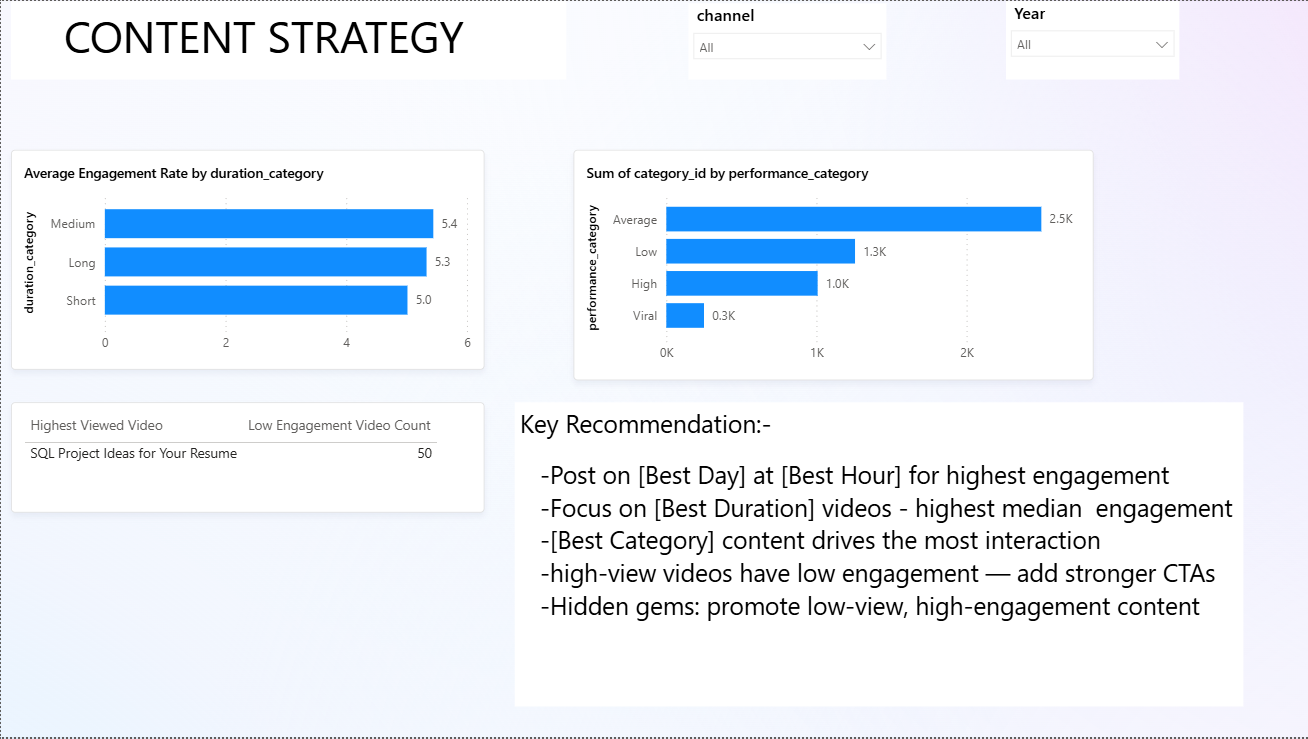

The dashboard page shown, as its layout file describes it:
{"tool":"powerbi","page":{"name":"Content Strategy","canvas":[1280,720],"ordinal":3},"visuals":[{"type":"textbox","box":[10,0,543.1,77],"z":0},{"type":"slicer","fields":{"Values":["youtube_cleaned_data.channel_title"]},"box":[672.8,2.9,193.9,74.1],"z":1},{"type":"slicer","fields":{"Values":["DimDate.Year"]},"box":[983.5,0,169.6,77],"z":2},{"type":"barChart","fields":{"Category":["youtube_cleaned_data.duration_category"],"Y":["DimDate.Average Engagement Rate"]},"box":[10,145.4,463.3,215.2],"z":3},{"type":"tableEx","fields":{"Values":["DimDate.Highest Viewed Video","DimDate.Low Engagement Video Count"]},"box":[10,392,463.3,108.3],"z":4},{"type":"barChart","fields":{"Category":["youtube_cleaned_data.performance_category"],"Y":["Sum(youtube_cleaned_data.category_id)"]},"box":[560.2,145.4,508.9,225.2],"z":5},{"type":"textbox","box":[503.2,392,712.7,297.9],"z":6}]}

Visuals, with their boxes in screenshot pixels (x1, y1, x2, y2), scaled from the page's 1280x720 canvas onto the 1308x739 screenshot:
textbox: l=10, t=0, r=565, b=79
slicer - youtube_cleaned_data.channel_title: l=688, t=3, r=886, b=79
slicer - DimDate.Year: l=1005, t=0, r=1178, b=79
barChart - youtube_cleaned_data.duration_category x DimDate.Average Engagement Rate: l=10, t=149, r=484, b=370
tableEx - DimDate.Highest Viewed Video x DimDate.Low Engagement Video Count: l=10, t=402, r=484, b=514
barChart - youtube_cleaned_data.performance_category x Sum(youtube_cleaned_data.category_id): l=572, t=149, r=1092, b=380
textbox: l=514, t=402, r=1242, b=708
